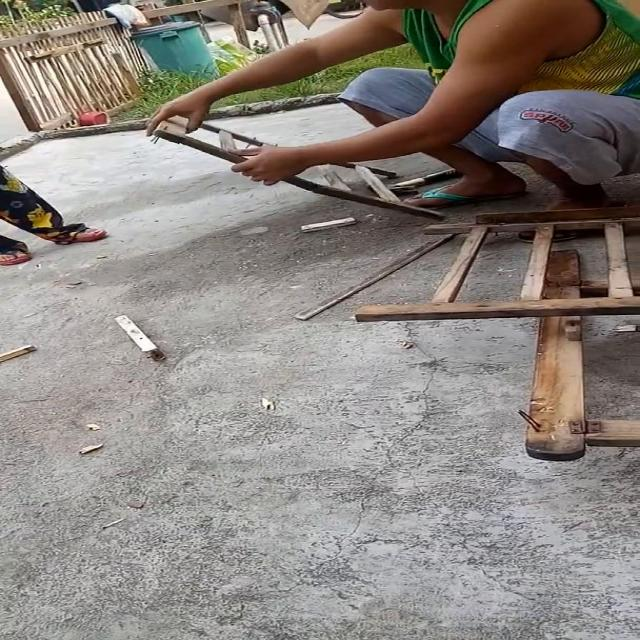hammer: (365, 165, 465, 198)
